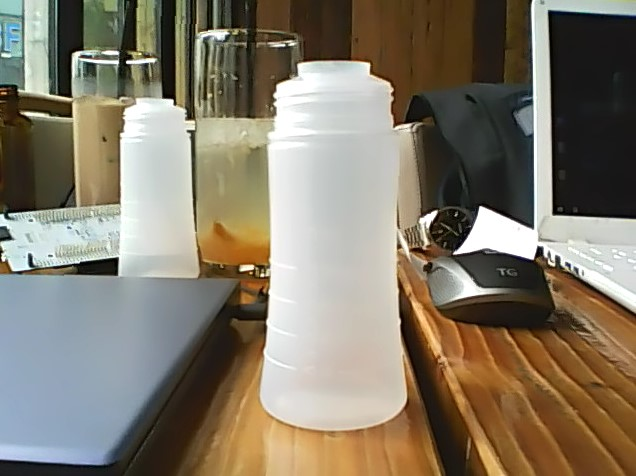Plastic: (257, 59, 412, 437)
